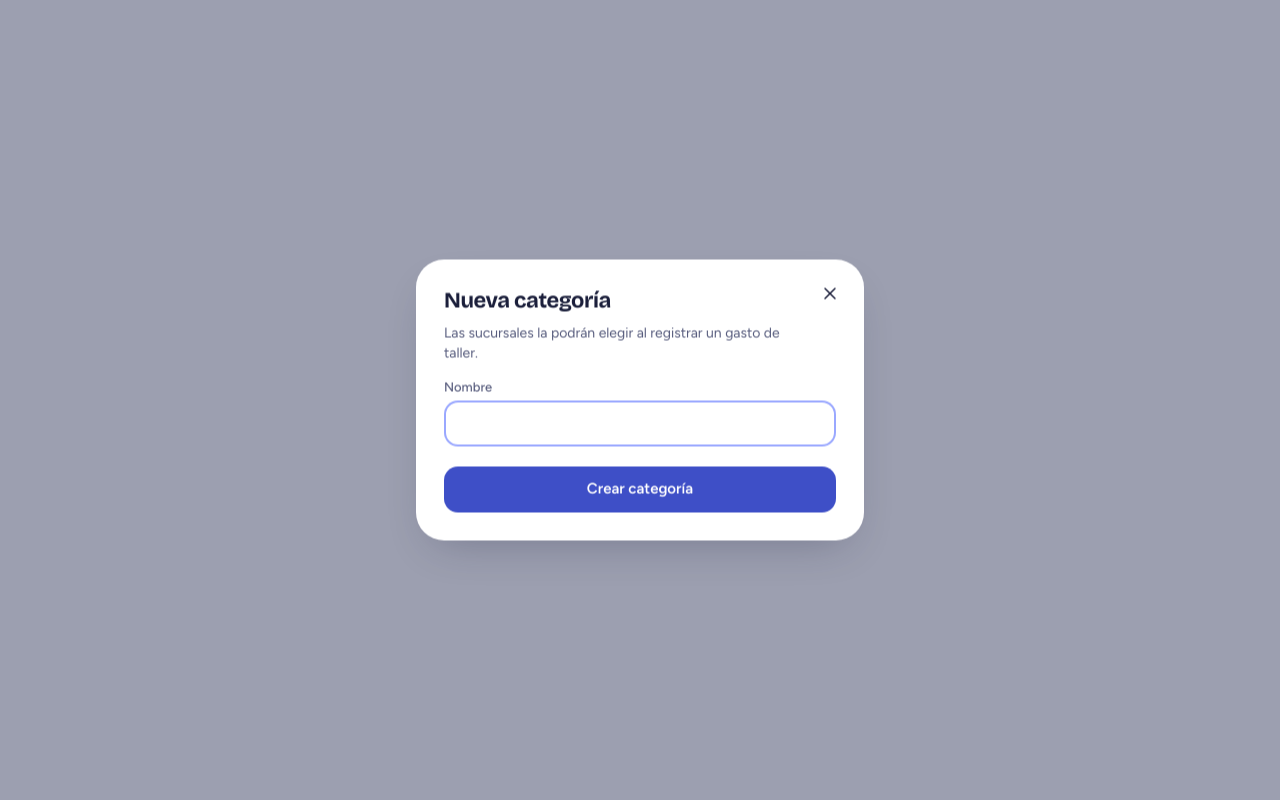
Test case: creating a category › says what is wrong with the name before asking the service and focuses it
The image size is (1280, 800).
Click the button "Crear categoría": (640, 490) [444,466,836,512]
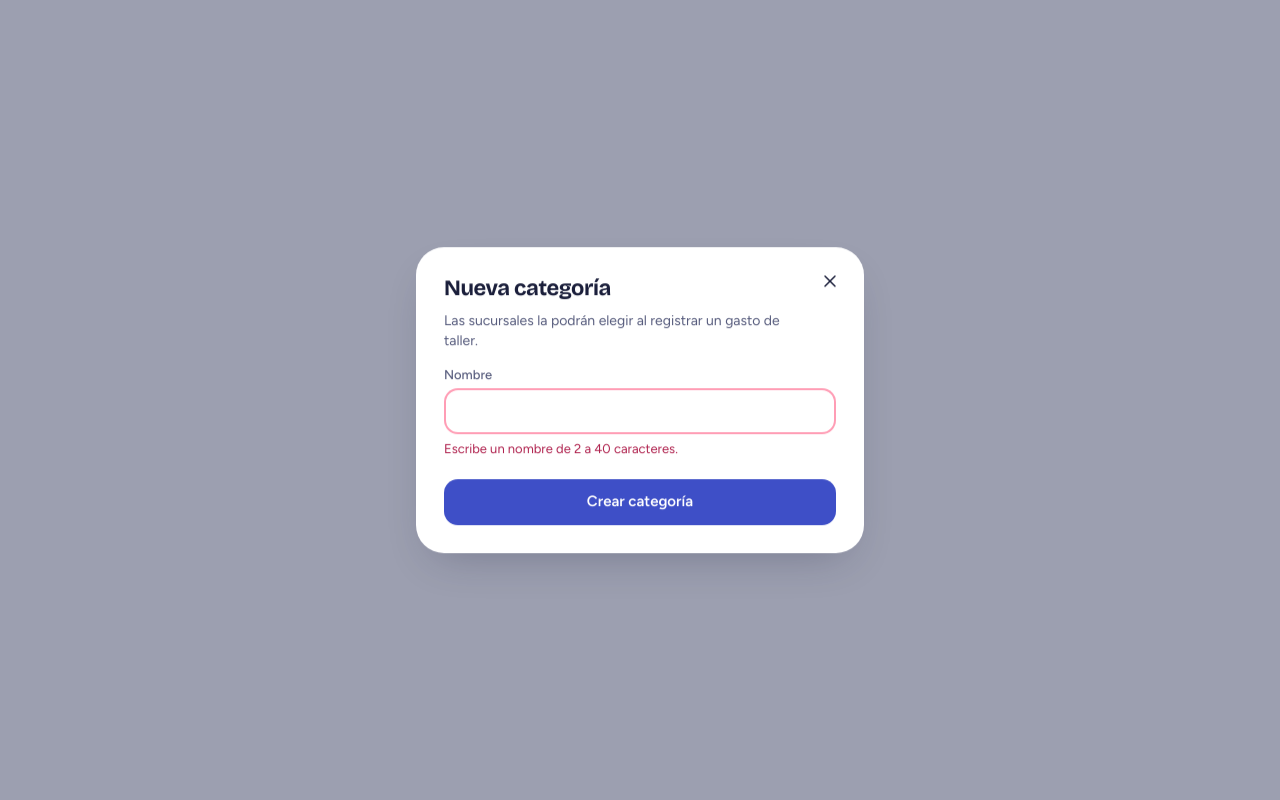
Check: the text "Escribe un nombre de 2 a 40 caracteres." is shown, box [444,441,678,456]
